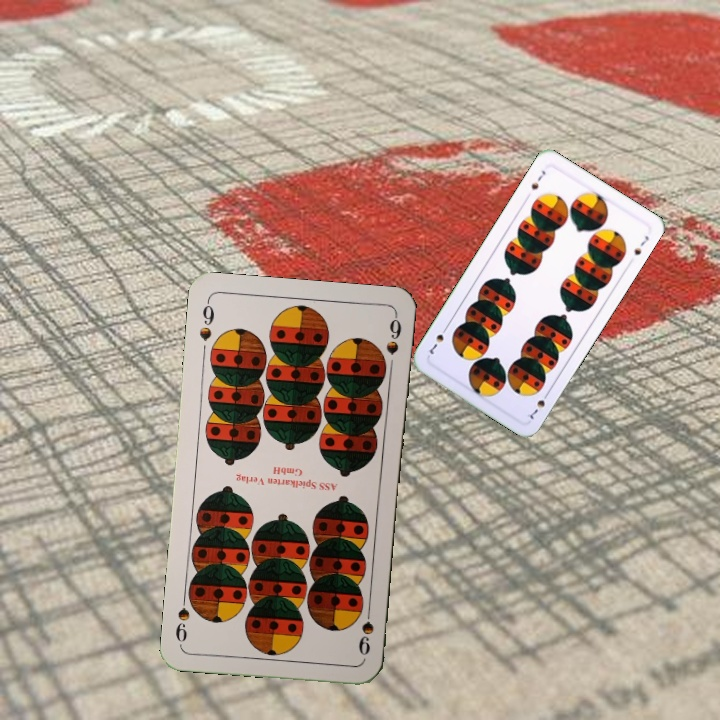S7: (525, 387, 552, 422), (527, 166, 548, 192)
S9: (354, 600, 376, 658), (196, 296, 217, 344)
